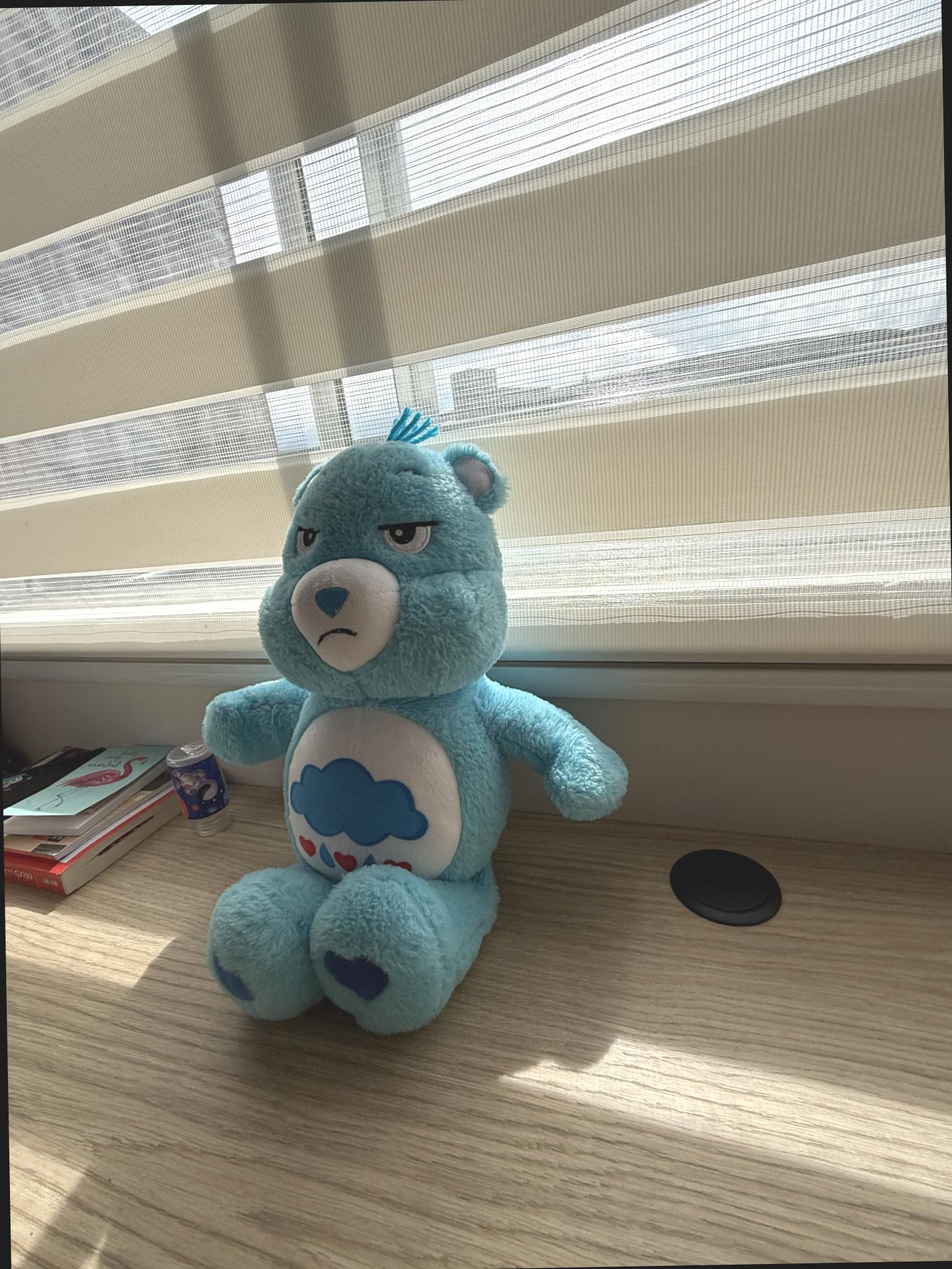peluche_Juan Jose: (197, 403, 634, 1039)
